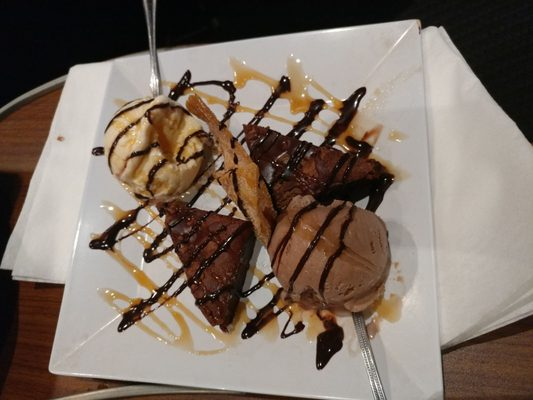soup: (110, 199, 270, 338)
